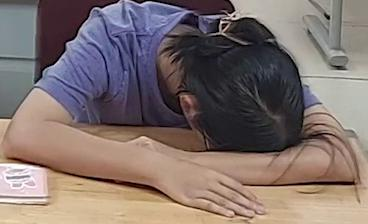Sleeping: (31, 0, 346, 216)
